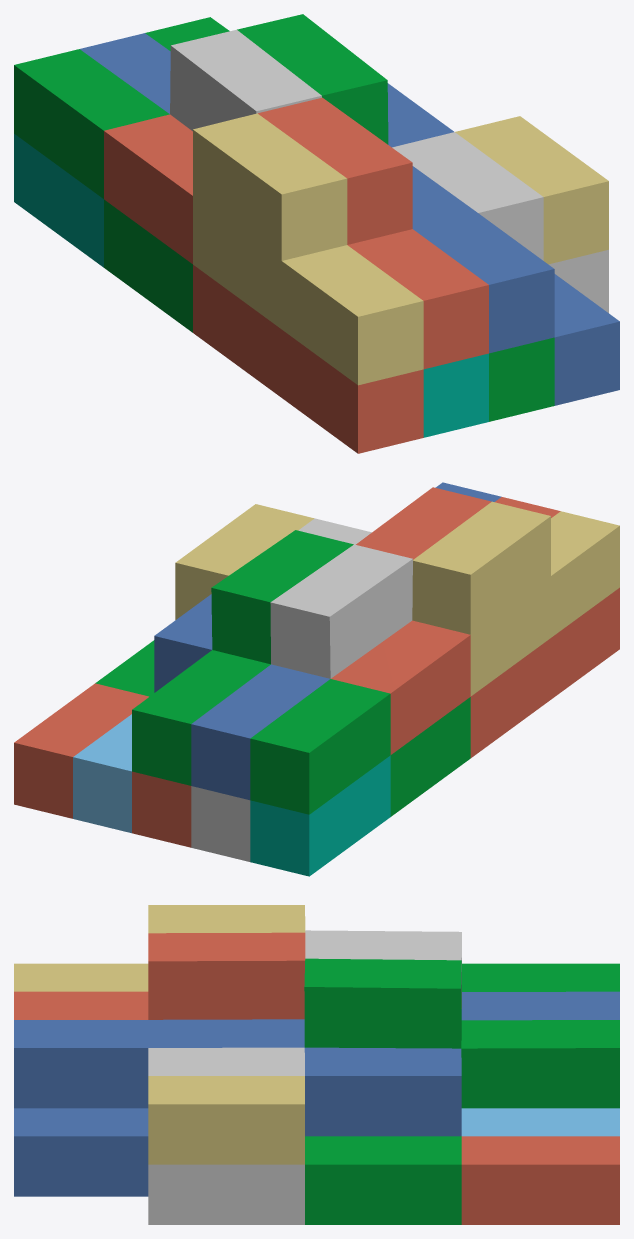
Rendered from Container_Group_1.fbx.
3 views of the same model, one above another, from view 1: azimuth 30°, elevation 25°; view 2: azimuth 150°, elevation 25°; view 3: azimuth 270°, elevation 25° (orthographic). The views are drawn at different scales.
Visible parts, largest first — view 1: Container_Group_1; view 2: Container_Group_1; view 3: Container_Group_1.
Part boxes in pixels (x1=…): Container_Group_1: x1=14, y1=14, x2=619, y2=453; Container_Group_1: x1=14, y1=482, x2=619, y2=876; Container_Group_1: x1=14, y1=905, x2=619, y2=1224.
Bounding box in the file's own units: 3.41 × 2.05 × 6.21.
